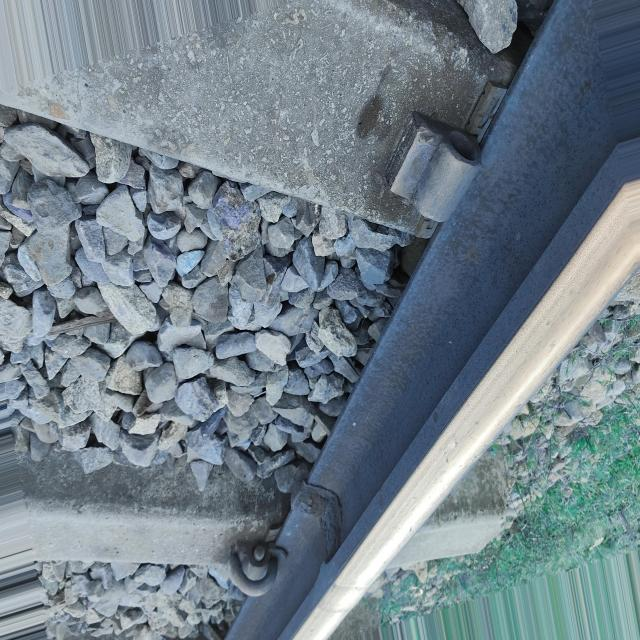Good Fasteners: (216, 535, 285, 595)
Missing Fastener: (342, 107, 498, 256)
